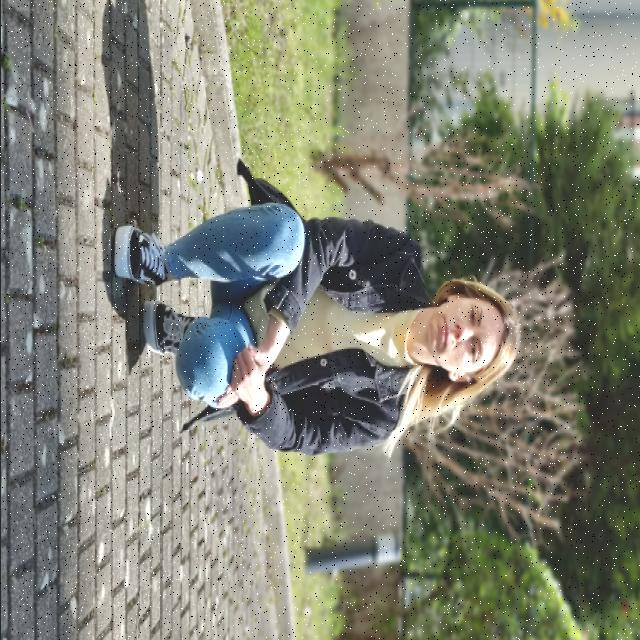face_no_mask: (426, 292, 504, 386)
